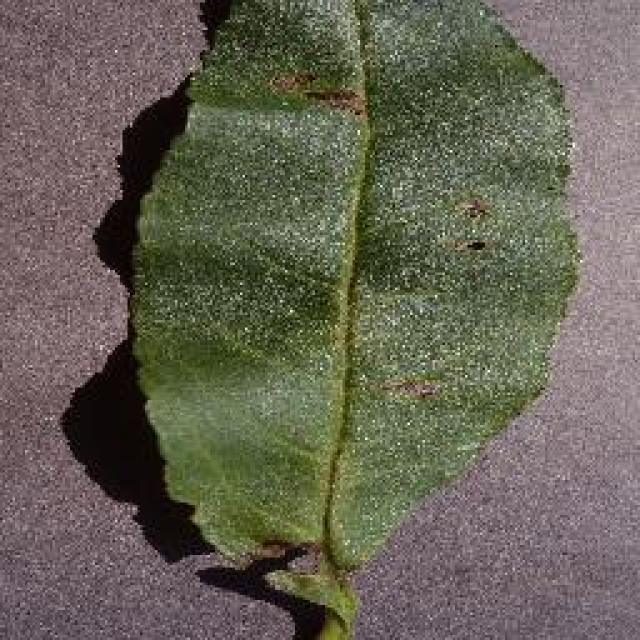Peach_Bacterial_Spot: (222, 0, 483, 440)
